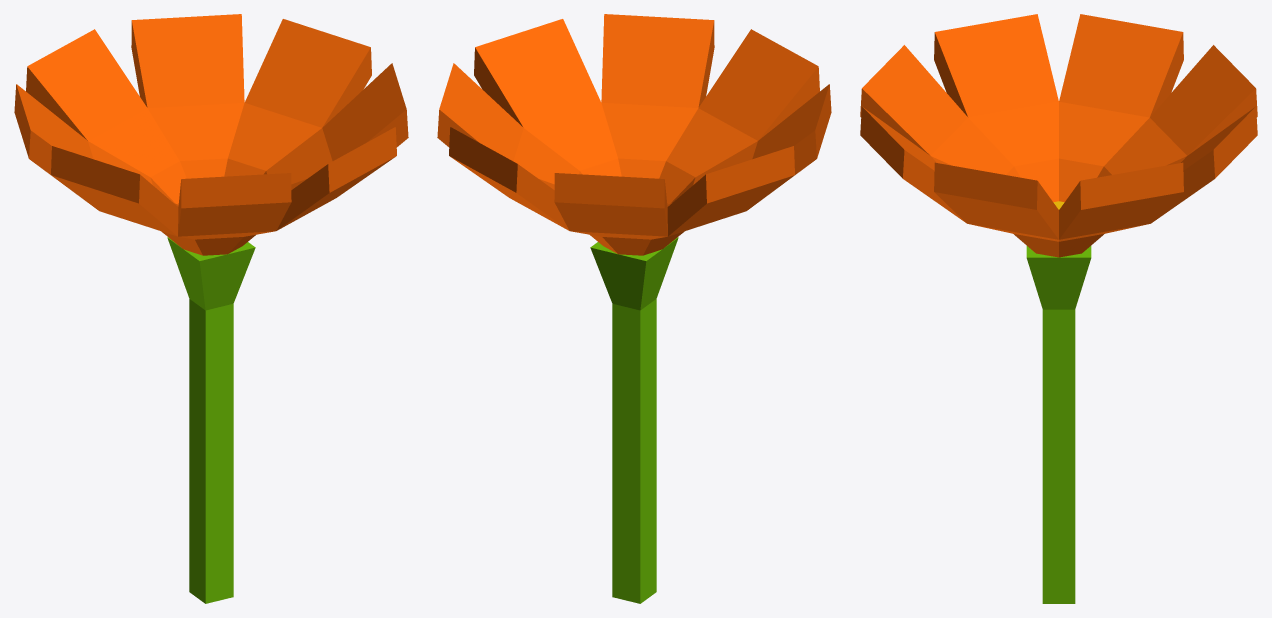
Rendered from Flower_03_Bloom.fbx.
The picture shows the model from 3 angles, left to right: view 1: azimuth 30°, elevation 25°; view 2: azimuth 150°, elevation 25°; view 3: azimuth 270°, elevation 25°; orthographic projection.
Visible parts, largest first — view 1: Flower_03_Bloom; view 2: Flower_03_Bloom; view 3: Flower_03_Bloom.
Boxes of the visible parts, x1,y1,x2,y2 form: Flower_03_Bloom: [14, 14, 408, 603]; Flower_03_Bloom: [437, 14, 831, 603]; Flower_03_Bloom: [860, 14, 1257, 603].
Bounding box in the file's own units: 24.48 × 33.95 × 24.48.
